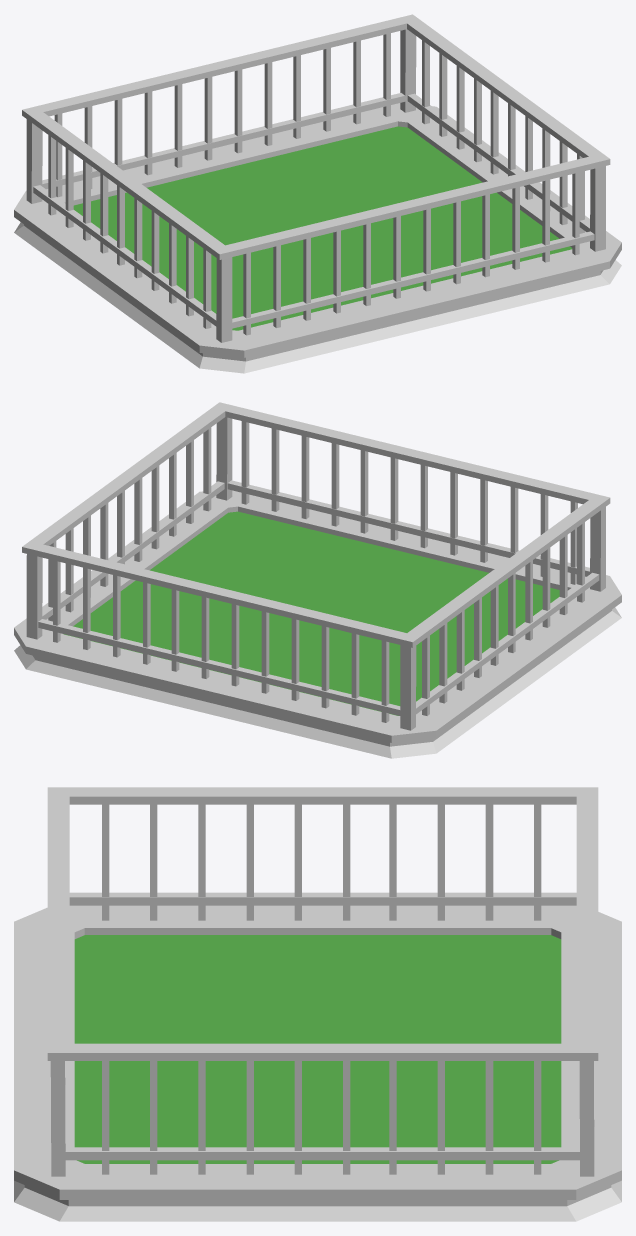
File: sidewalk_planter.glb
The picture shows the model from 3 angles, top to bottom: view 1: azimuth 30°, elevation 25°; view 2: azimuth 150°, elevation 25°; view 3: azimuth 270°, elevation 25°; orthographic projection. The views are drawn at different scales.
Parts seen in each view (by area): view 1: Sidewalk_Planter; view 2: Sidewalk_Planter; view 3: Sidewalk_Planter.
Boxes of the visible parts, bbox=[...] form: Sidewalk_Planter: bbox=[14, 14, 621, 373]; Sidewalk_Planter: bbox=[14, 402, 621, 758]; Sidewalk_Planter: bbox=[14, 787, 621, 1221].
Size of the model in its own units: 1.97 by 0.5057 by 1.77.
